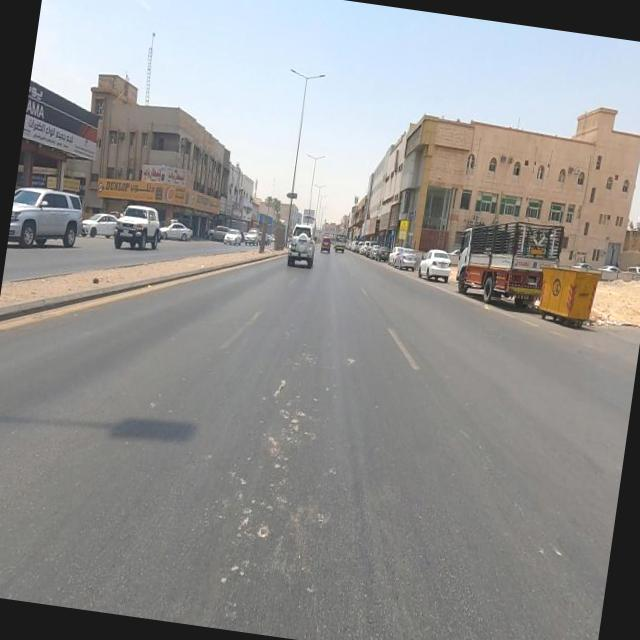debris: (357, 176, 418, 252), (342, 183, 403, 255)
